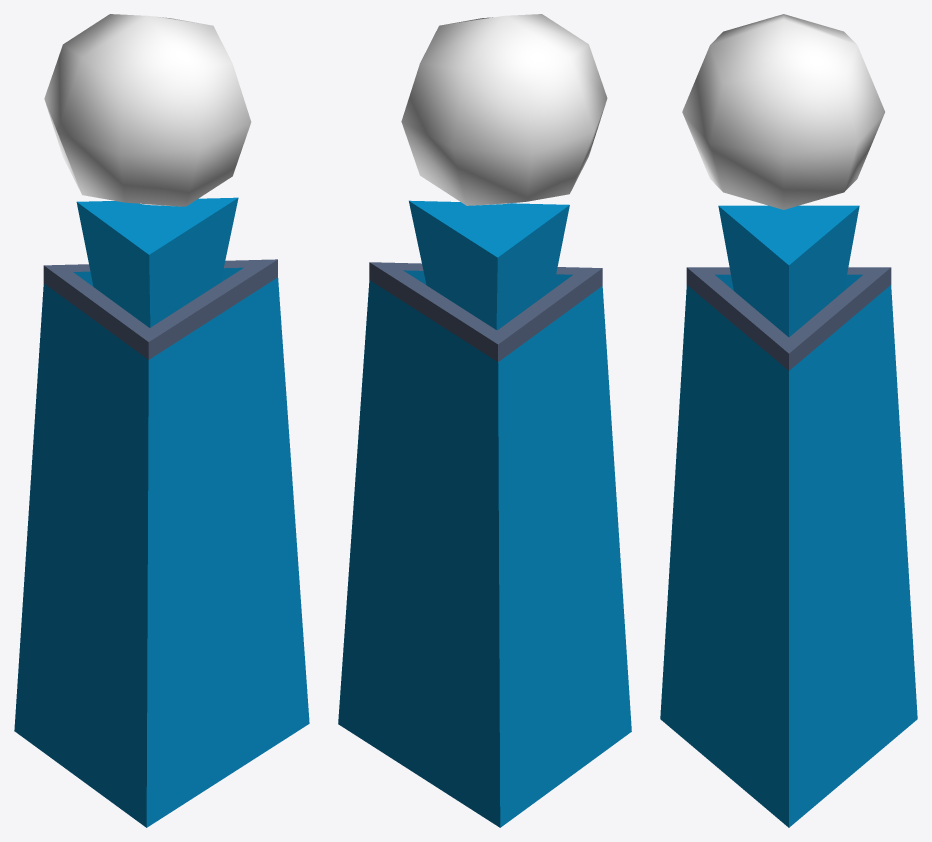
File: tower3.glb
3 renders of one model, left to right at view 1: azimuth 30°, elevation 25°; view 2: azimuth 150°, elevation 25°; view 3: azimuth 270°, elevation 25°, orthographic. The views are drawn at different scales.
Parts seen in each view (by area): view 1: Cube, Cube.001; view 2: Cube, Cube.001; view 3: Cube, Cube.001.
Part boxes in pixels (left/top/right/bottom): Cube: left=14, top=197, right=309, bottom=827; Cube.001: left=44, top=14, right=251, bottom=206; Cube: left=338, top=200, right=631, bottom=827; Cube.001: left=401, top=14, right=607, bottom=205; Cube: left=660, top=205, right=917, bottom=827; Cube.001: left=682, top=14, right=884, bottom=209.
Size of the model in its own units: 2.22 by 6.26 by 2.
Materials: 1 (1 with a texture image).
